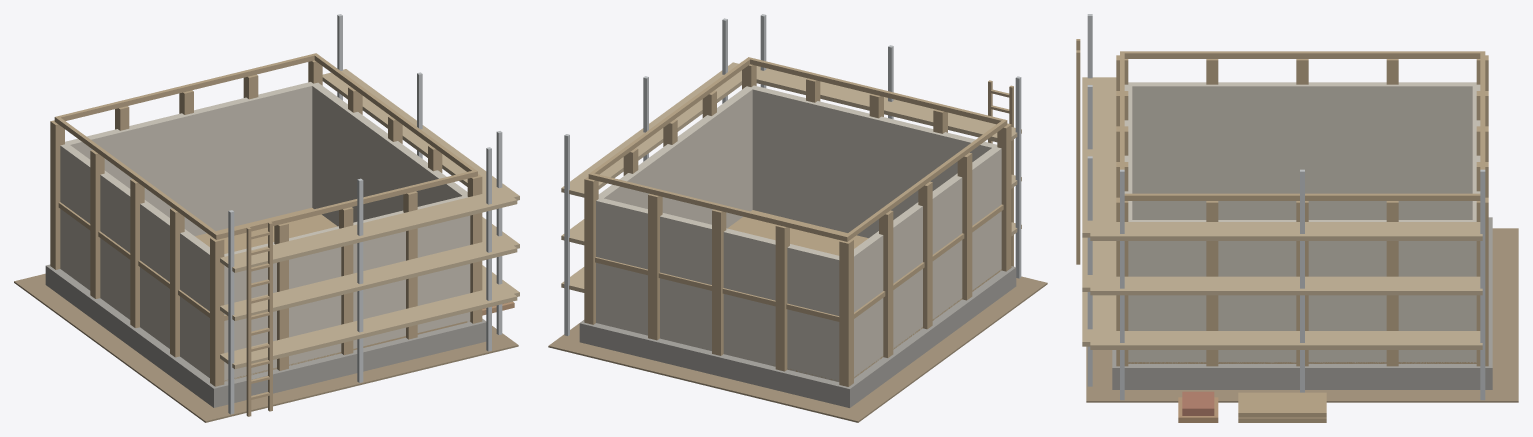
The model's file is bakery_site_7.glb.
3 renders of one model, left to right at view 1: azimuth 30°, elevation 25°; view 2: azimuth 150°, elevation 25°; view 3: azimuth 270°, elevation 25°, orthographic. The views are drawn at different scales.
Visible parts, largest first — view 1: body; view 2: body; view 3: body.
Part boxes in pixels (<box>): body: <box>14,14,519,422</box>; body: <box>548,14,1047,422</box>; body: <box>1076,14,1518,422</box>.
Bounding box in the file's own units: 2.28 × 1.27 × 2.21.
